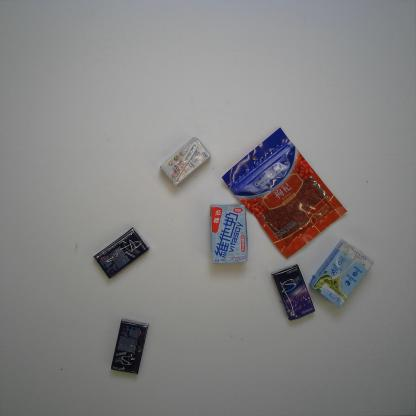Dried Fruit: (221, 127, 348, 259)
Gum: (93, 226, 150, 280), (271, 264, 316, 321), (110, 318, 150, 375)
Milk: (309, 239, 374, 309), (160, 136, 212, 186), (210, 203, 248, 264)
